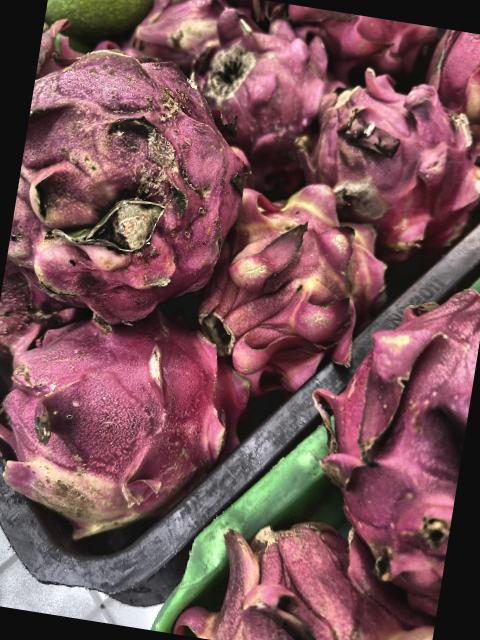buah-naga-belum-matang: (0, 285, 263, 551), (200, 168, 407, 392), (186, 501, 447, 640), (423, 28, 480, 150), (131, 0, 231, 68)
buah-naga-matang: (4, 23, 261, 310), (310, 236, 480, 611), (289, 60, 480, 254), (184, 0, 347, 156), (286, 5, 435, 82)
